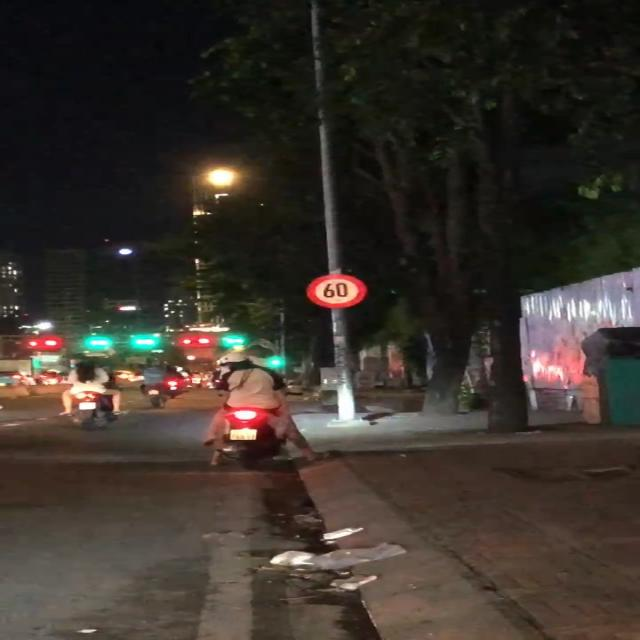Bien bao toc do toi da cho phep: (306, 270, 372, 310)
